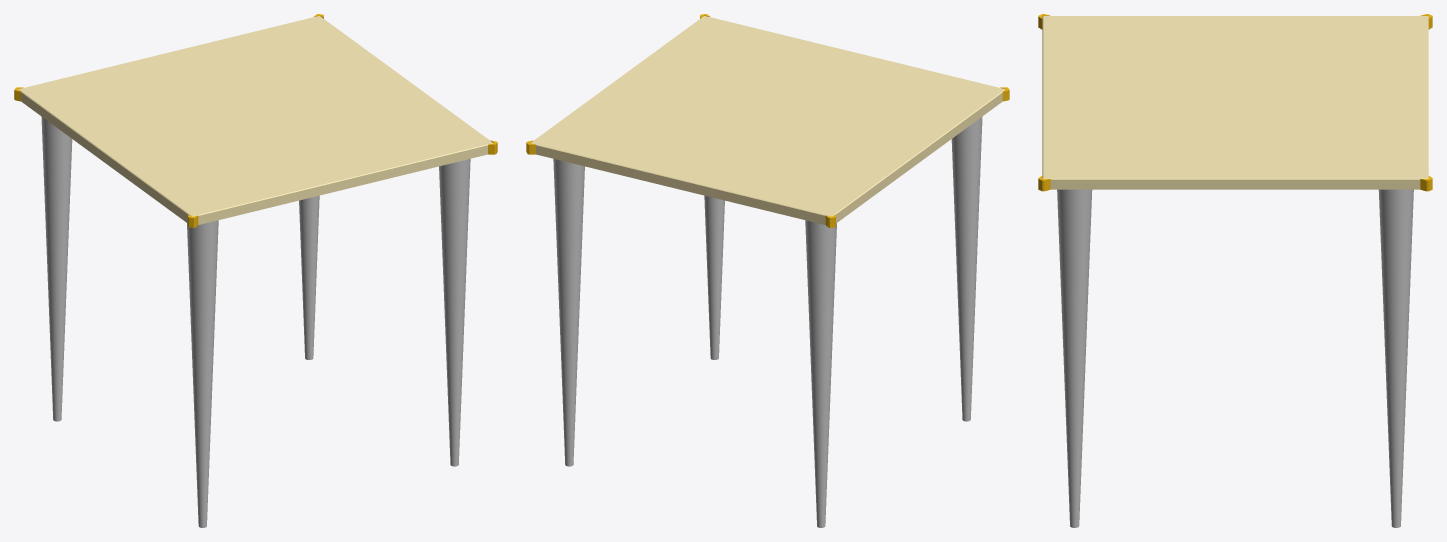
File: Table.glb
The picture shows the model from 3 angles, left to right: view 1: azimuth 30°, elevation 25°; view 2: azimuth 150°, elevation 25°; view 3: azimuth 270°, elevation 25°; orthographic projection. The views are drawn at different scales.
Parts seen in each view (by area): view 1: ID55, ID17, ID23, 5cd1a67dc1378b16056ced2c, ID11; view 2: ID55, 5cd1a67dc1378b16056ced2c, ID11, ID17, ID23; view 3: ID55, ID23, ID11.
Boxes of the visible parts, <box> form: ID55: <box>18,16,493,224</box>; ID17: <box>187,220,218,527</box>; ID23: <box>439,159,470,466</box>; 5cd1a67dc1378b16056ced2c: <box>41,116,72,421</box>; ID11: <box>299,195,319,359</box>; ID55: <box>530,16,1005,224</box>; 5cd1a67dc1378b16056ced2c: <box>805,220,836,527</box>; ID11: <box>553,159,584,466</box>; ID17: <box>951,116,982,421</box>; ID23: <box>704,195,724,359</box>; ID55: <box>1042,16,1428,189</box>; ID23: <box>1057,189,1092,527</box>; ID11: <box>1378,189,1413,527</box>.
Size of the model in its own units: 0.6223 by 0.6287 by 0.6223.
